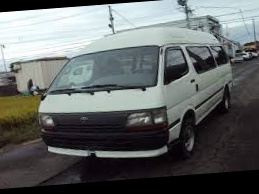van: (26, 24, 237, 166)
